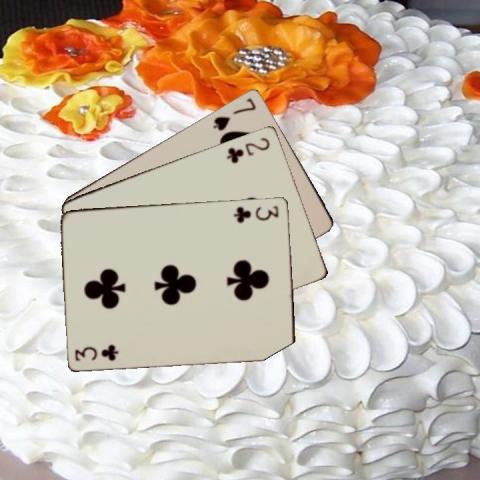2c: (224, 134, 271, 165)
3c: (231, 203, 281, 224), (72, 343, 120, 362)
7s: (210, 95, 257, 132)
